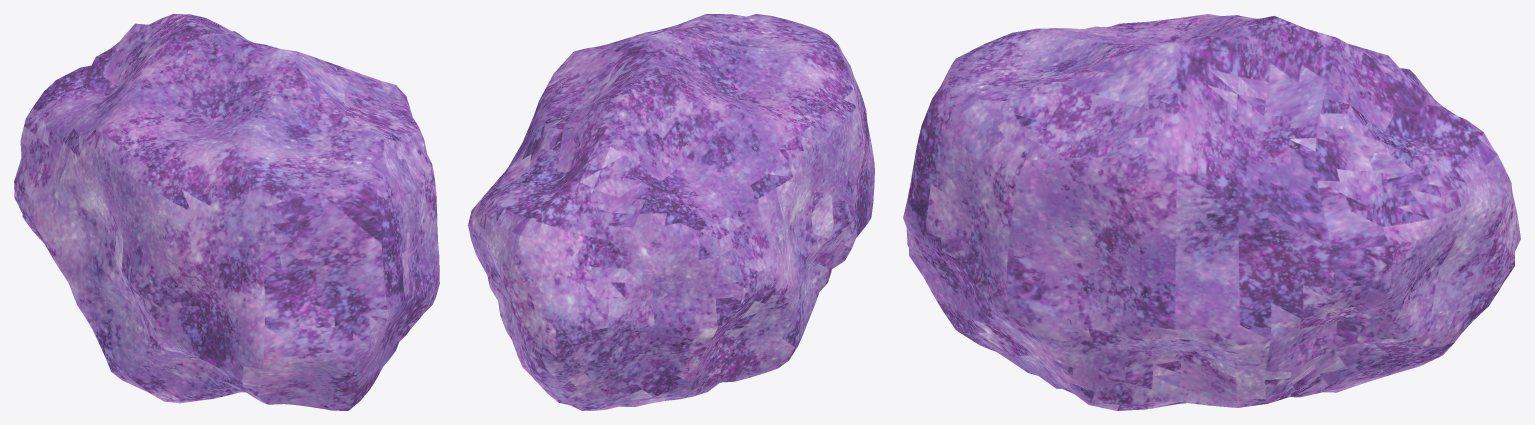
Rendered from stone.glb.
The picture shows the model from 3 angles, left to right: view 1: azimuth 30°, elevation 25°; view 2: azimuth 150°, elevation 25°; view 3: azimuth 270°, elevation 25°; orthographic projection. The views are drawn at different scales.
Visible parts, largest first — view 1: Cube.003; view 2: Cube.003; view 3: Cube.003.
Part boxes in pixels (box(x1,y1,x2,y2)): Cube.003: box(14, 14, 439, 410); Cube.003: box(468, 14, 874, 410); Cube.003: box(903, 14, 1520, 410).
Bounding box in the file's own units: 0.2554 × 0.2611 × 0.4047.
1 material, 1 textured.
